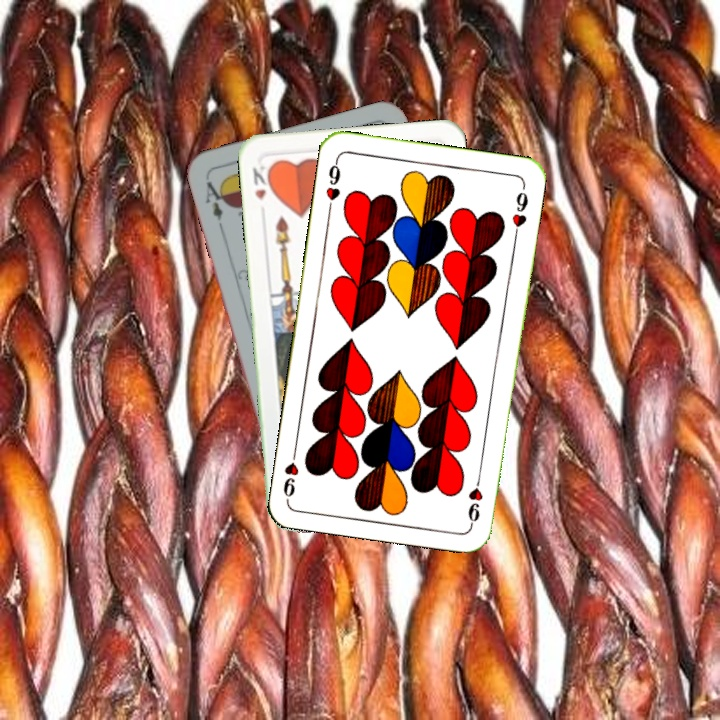EA: (201, 177, 230, 223)
H9: (321, 155, 343, 214), (464, 468, 486, 527)
HK: (249, 161, 275, 203)
